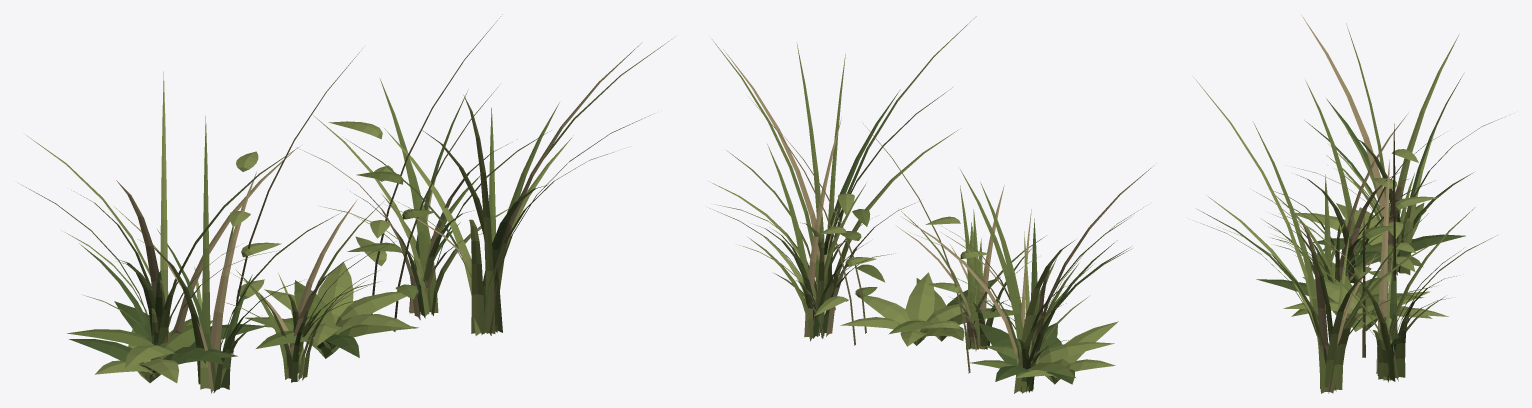
File: WallWeeds_1.fbx
3 renders of one model, left to right at view 1: azimuth 30°, elevation 25°; view 2: azimuth 150°, elevation 25°; view 3: azimuth 270°, elevation 25°, orthographic. The views are drawn at different scales.
Parts seen in each view (by area): view 1: WallWeeds_1; view 2: WallWeeds_1; view 3: WallWeeds_1.
Part boxes in pixels (left/top/right/bottom): WallWeeds_1: left=17, top=14, right=674, bottom=393; WallWeeds_1: left=709, top=16, right=1156, bottom=393; WallWeeds_1: left=1195, top=15, right=1513, bottom=393.
Size of the model in its own units: 112 by 60.34 by 67.07.
